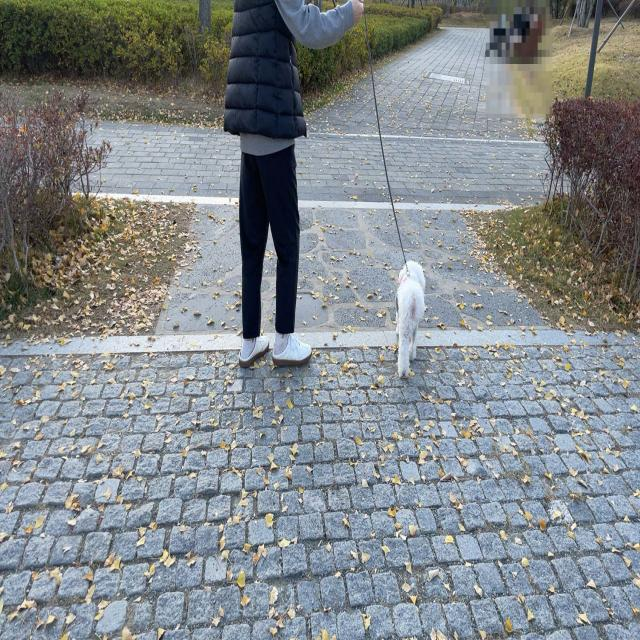Leashed_Dog: (282, 0, 425, 379)
